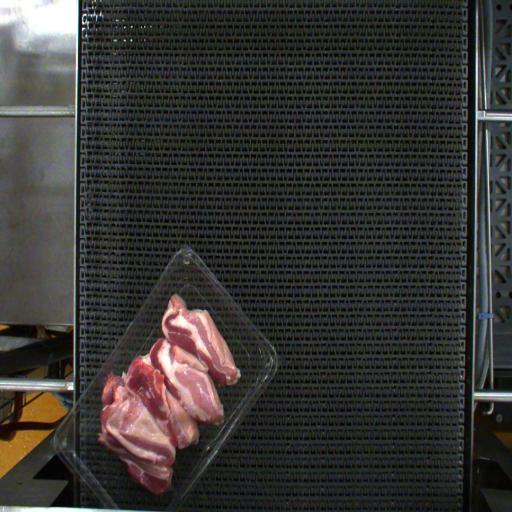twisted-meat: (137, 358, 198, 446)
